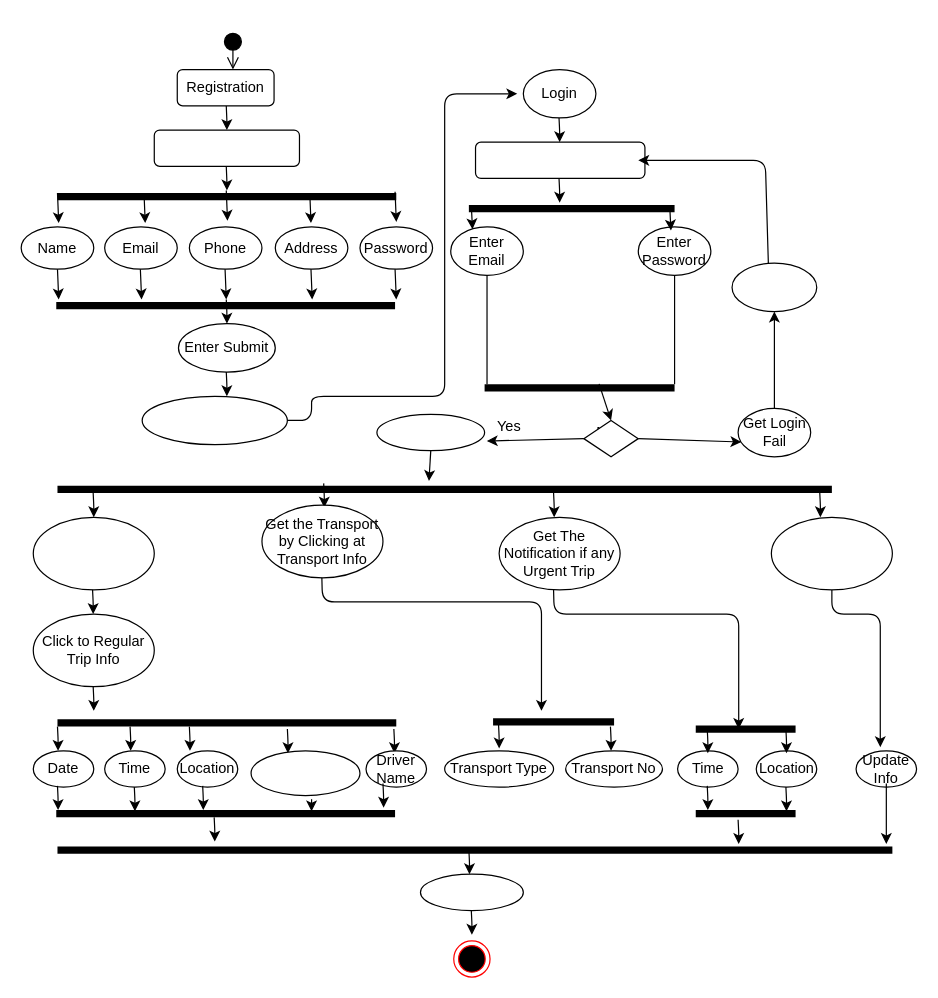
Image size: 938x998. Some labels were removed from this diagram. Here are the shapes that lost their labels. From the top down, the centre of each, then its label:
the point at 226,147: Enter Registration Info
the point at 559,159: Click at Login
the point at 774,287: Login Again
the point at 214,420: Get Massage Registration Done
the point at 430,432: Go to Dashboard
the point at 610,438: Invalid
the point at 93,553: Can See Regular Trip Info
the point at 831,553: View Account Info
the point at 305,773: Transport Type & No
the point at 471,892: Logout
